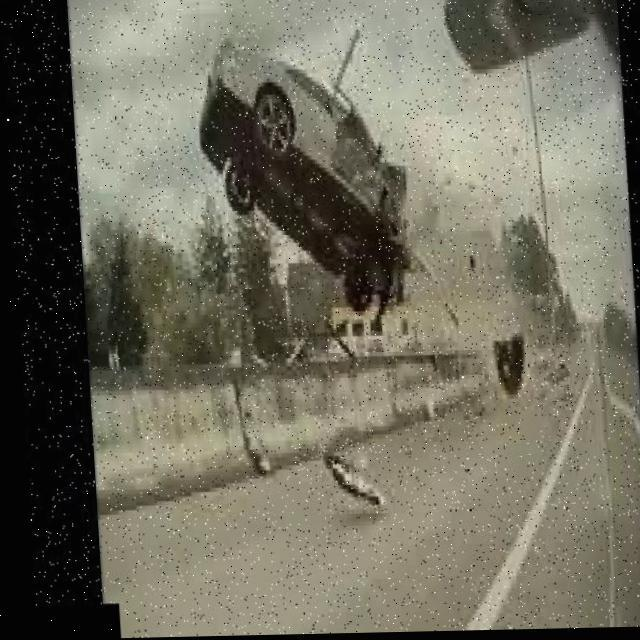single accident: (147, 16, 598, 429)
